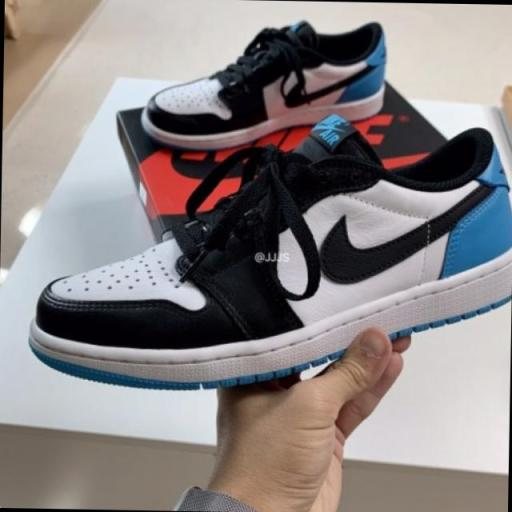Nike: (318, 178, 497, 295)
